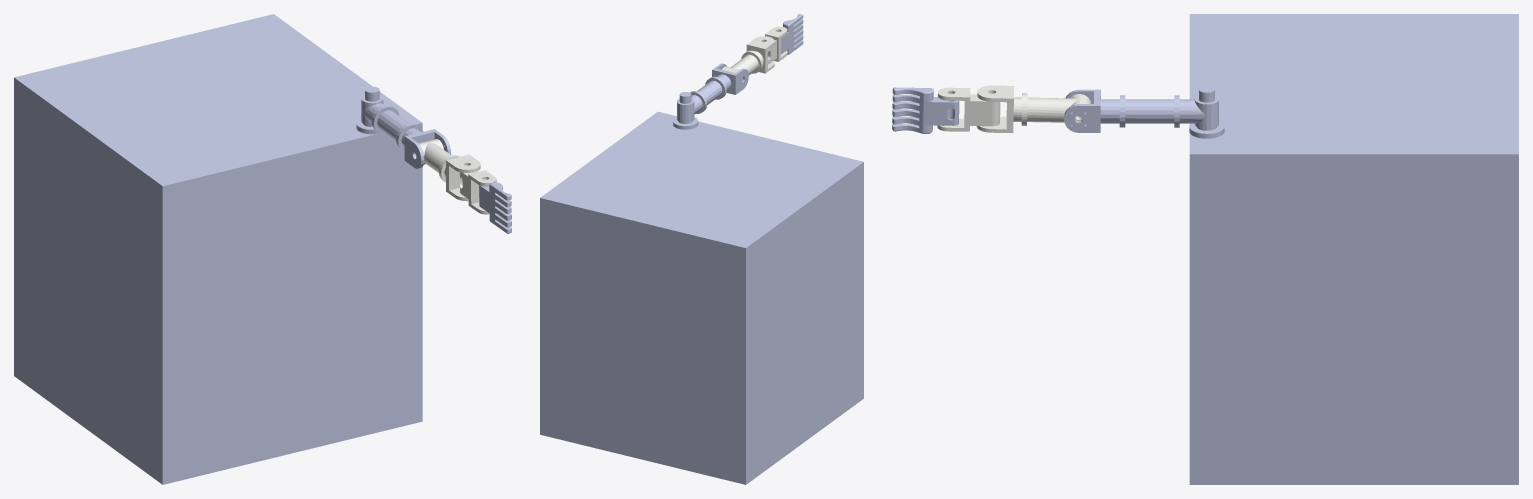
The model's file is horizonforce.dae.
3 renders of one model, left to right at view 1: azimuth 30°, elevation 25°; view 2: azimuth 150°, elevation 25°; view 3: azimuth 270°, elevation 25°, orthographic. The views are drawn at different scales.
Parts seen in each view (by area): view 1: base_link, link1, link2, link4, link3; view 2: base_link, link1, link2, link4, link3; view 3: base_link, link1, link2, link4, link3.
Boxes of the visible parts, x1,y1,x2,y2 form: base_link: (14,14,422,484); link1: (361,95,450,168); link2: (416,139,480,201); link4: (479,182,511,233); link3: (459,170,496,214); base_link: (540,92,863,484); link1: (677,63,748,122); link2: (722,36,774,74); link4: (780,14,803,54); link3: (765,26,787,64); base_link: (1189,14,1518,484); link1: (1064,89,1218,132); link2: (976,85,1091,133); link4: (892,87,959,133); link3: (937,87,1000,131).
Size of the model in its own units: 0.61 by 1.15 by 0.755.
